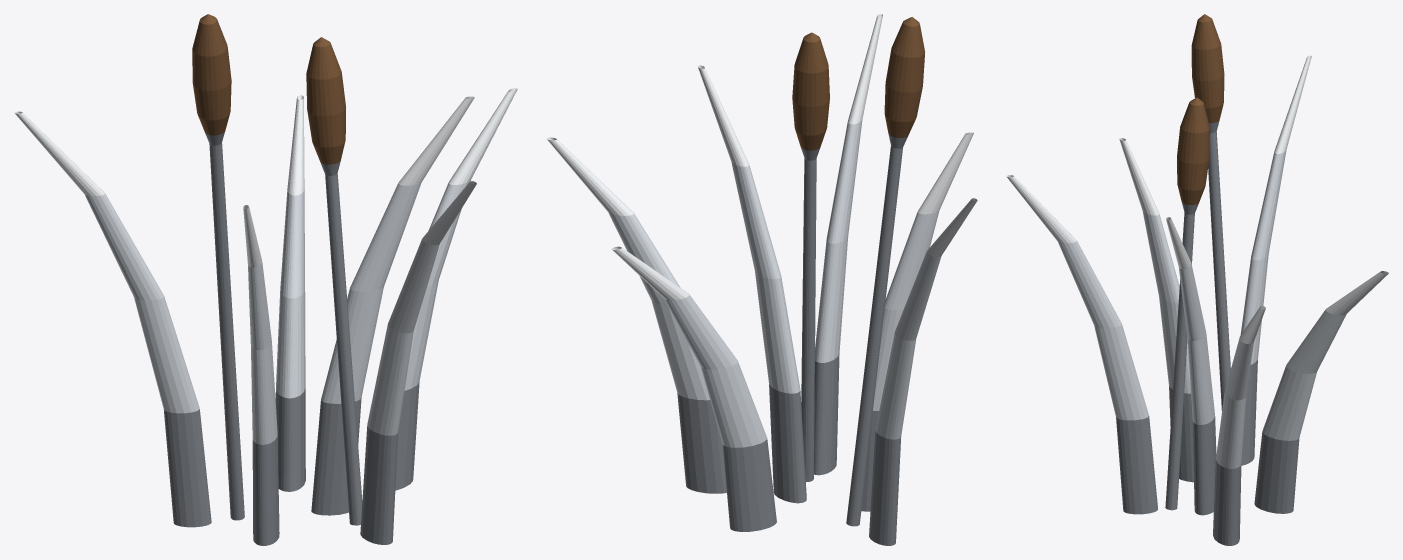
The model's file is ReedClump.obj.
3 renders of one model, left to right at view 1: azimuth 30°, elevation 25°; view 2: azimuth 150°, elevation 25°; view 3: azimuth 270°, elevation 25°, orthographic. The views are drawn at different scales.
Bounding box in the file's own units: 3.09 × 3.28 × 2.57.
